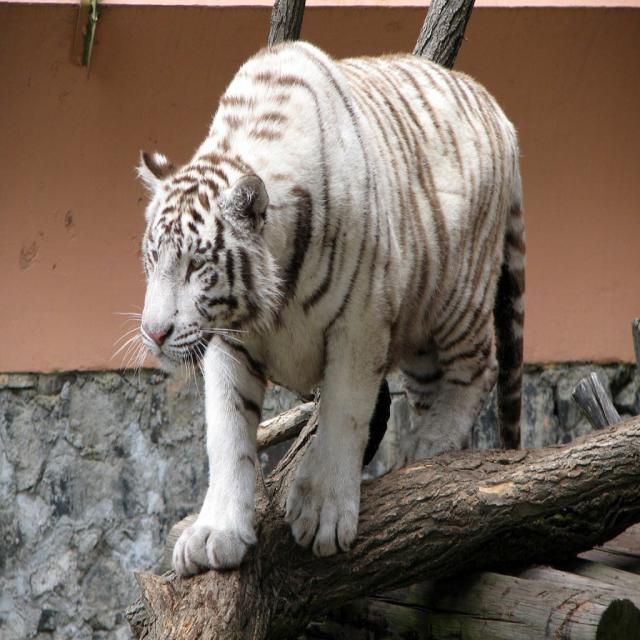Tiger: (109, 34, 522, 579)
